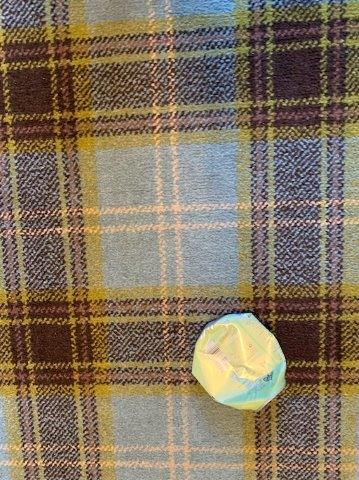kaleng: (192, 313, 286, 411)
